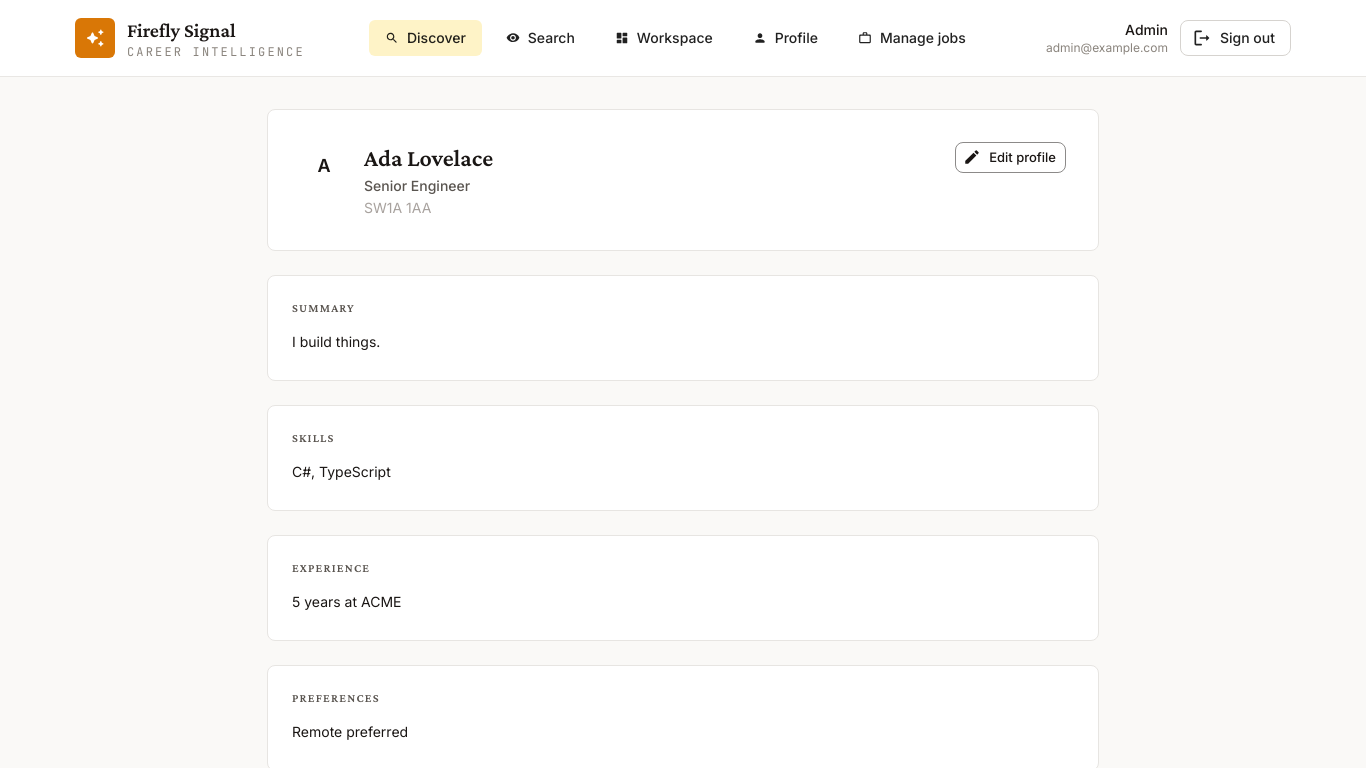
Test: ProfileView › switches to edit mode when Edit profile is clicked
Expected: the heading "Ada Lovelace" is shown, [364,142,493,174]
Click the button "Edit profile": (1011, 157) [955,142,1066,173]
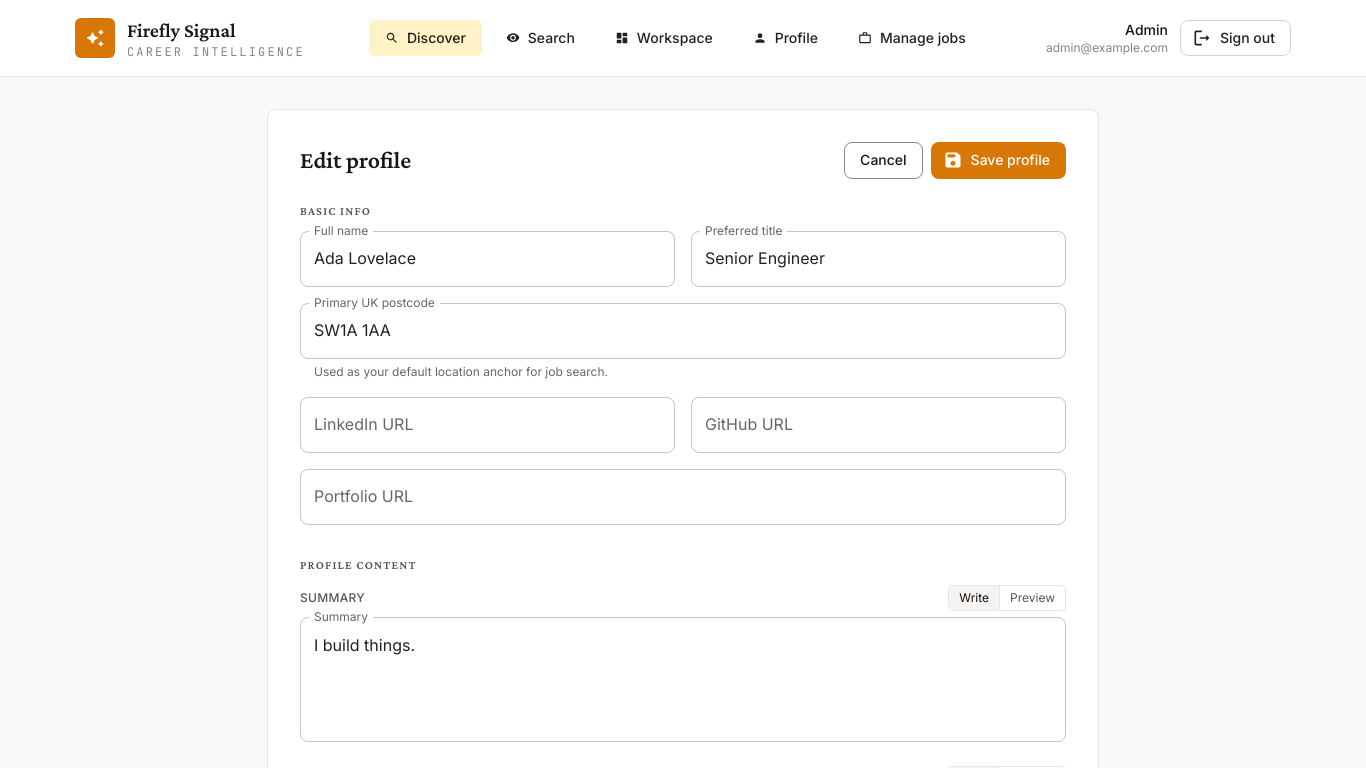
Result: the field showing "Ada Lovelace" is shown at [300,230,675,286]
Result: the field showing "Senior Engineer" is shown at [691,230,1066,286]
